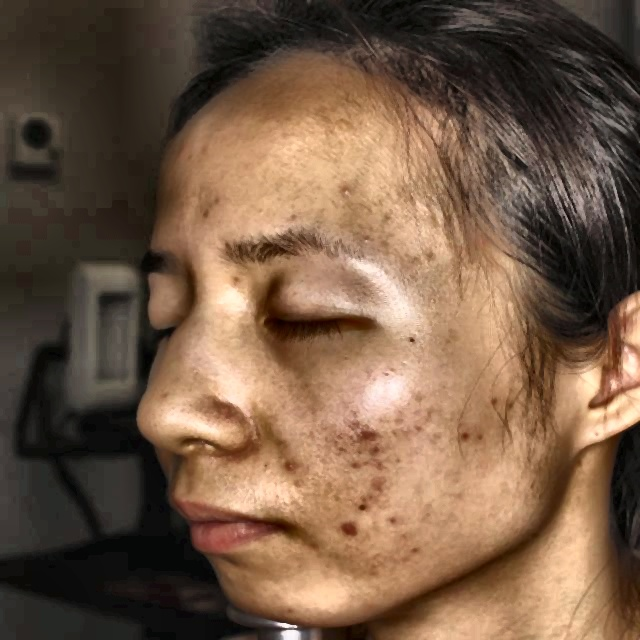pustule: (352, 425, 390, 448), (339, 514, 365, 544), (276, 456, 306, 474), (363, 476, 386, 499), (456, 428, 473, 444), (488, 396, 505, 410)
